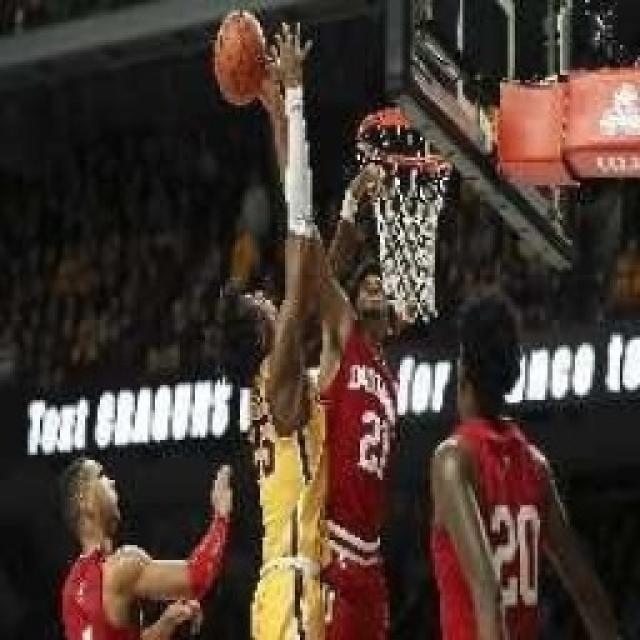rim: (212, 5, 272, 116)
